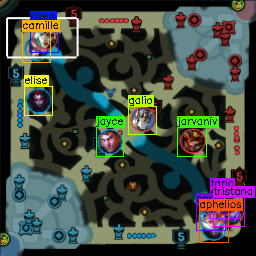aphelios: (201, 216, 225, 240)
camille: (24, 37, 46, 60)
elise: (25, 88, 52, 112)
galio: (130, 107, 154, 130)
jarvaniv: (180, 128, 204, 152)
jayce: (97, 129, 122, 152)
riven: (33, 25, 57, 49)
sona: (198, 205, 220, 228)
taric: (211, 189, 235, 213)
tristana: (220, 201, 241, 224)
